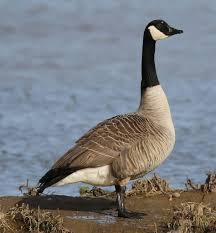goose: (18, 15, 190, 223)
